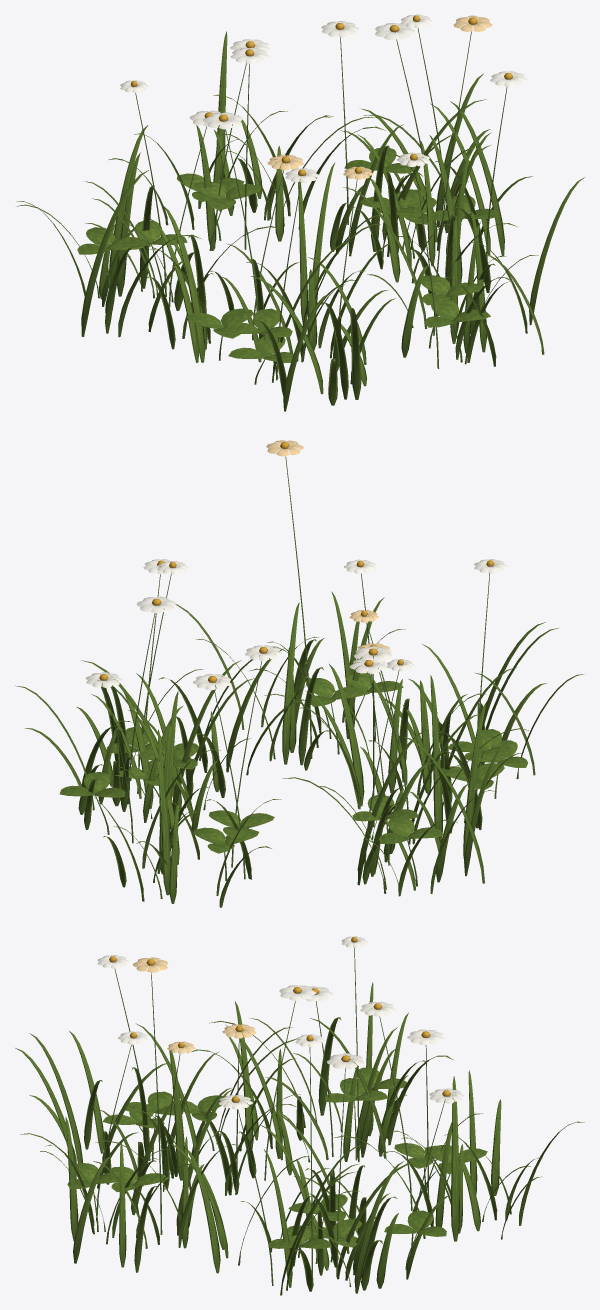
File: meadowb.glb
3 renders of one model, top to bottom at view 1: azimuth 30°, elevation 25°; view 2: azimuth 150°, elevation 25°; view 3: azimuth 270°, elevation 25°, orthographic. The views are drawn at different scales.
Parts seen in each view (by area): view 1: PatchFoliage, PatchFlowers, PatchStems; view 2: PatchFoliage, PatchFlowers, PatchStems; view 3: PatchFoliage, PatchFlowers, PatchStems.
Part boxes in pixels (box(x1,y1,x2,y2)): PatchFoliage: box(16, 31, 584, 411); PatchFlowers: box(120, 14, 526, 182); PatchStems: box(106, 28, 507, 384); PatchFoliage: box(15, 591, 583, 907); PatchFlowers: box(85, 440, 507, 690); PatchStems: box(95, 456, 498, 886); PatchFoliage: box(15, 982, 584, 1295); PatchFlowers: box(97, 936, 464, 1109); PatchStems: box(93, 948, 450, 1285).
Bounding box in the file's own units: 0.7763 × 0.48 × 0.8575.
Materials: 3 (1 with a texture image).
